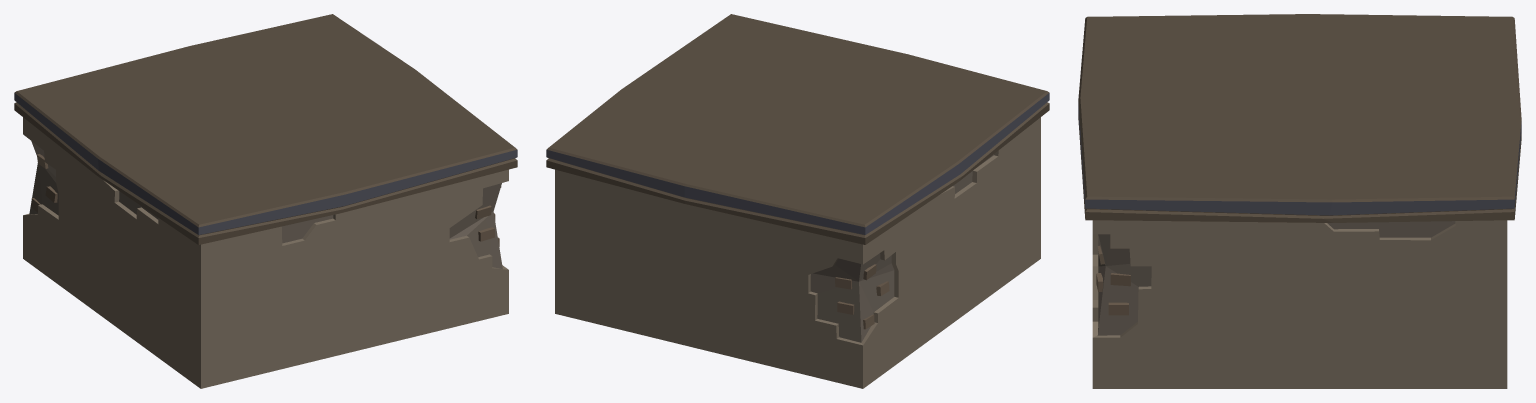
Rendered from SM_Bld_Shanty_Base_02.glb.
3 views of the same model, side by side, from view 1: azimuth 30°, elevation 25°; view 2: azimuth 150°, elevation 25°; view 3: azimuth 270°, elevation 25° (orthographic). The views are drawn at different scales.
Parts seen in each view (by area): view 1: SM_Bld_Shanty_Base_02; view 2: SM_Bld_Shanty_Base_02; view 3: SM_Bld_Shanty_Base_02.
Boxes of the visible parts, x1,y1,x2,y2 form: SM_Bld_Shanty_Base_02: [14, 14, 517, 388]; SM_Bld_Shanty_Base_02: [546, 14, 1049, 388]; SM_Bld_Shanty_Base_02: [1078, 14, 1521, 388].
Size of the model in its own units: 0.0517 by 0.025 by 0.0516.
